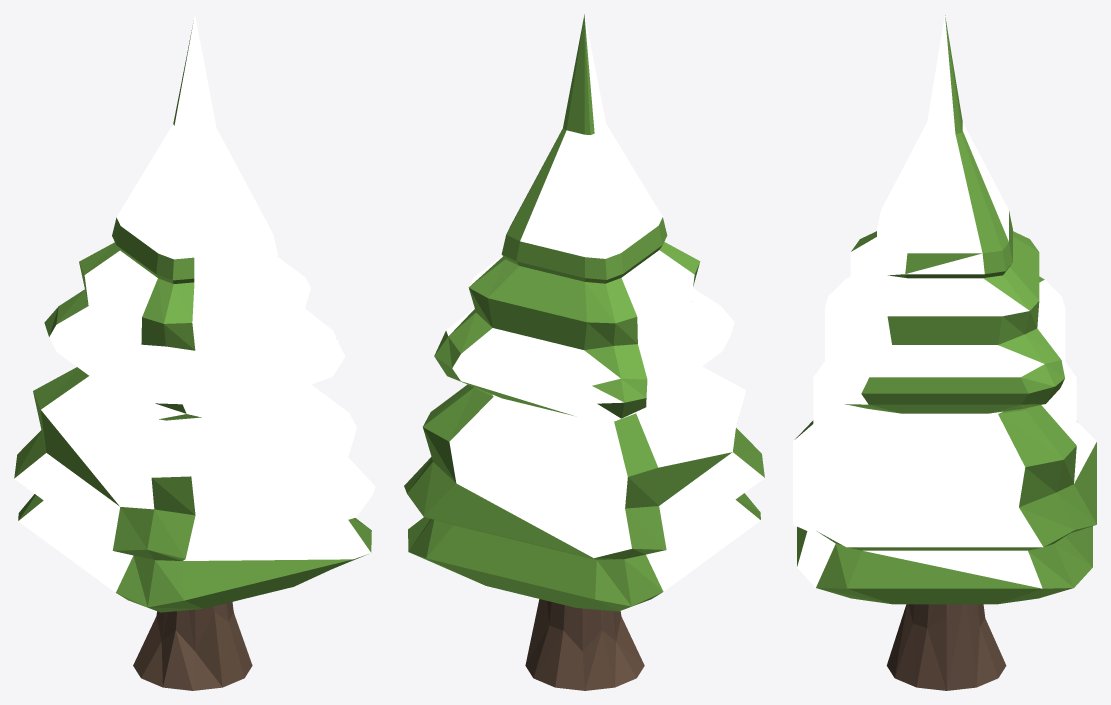
The model's file is tree_pine_snow_2.glb.
3 renders of one model, left to right at view 1: azimuth 30°, elevation 25°; view 2: azimuth 150°, elevation 25°; view 3: azimuth 270°, elevation 25°, orthographic.
Parts seen in each view (by area): view 1: tree_0035.002; view 2: tree_0035.002; view 3: tree_0035.002.
Part boxes in pixels (x1,y1,x2,y2): tree_0035.002: [14, 15, 375, 690]; tree_0035.002: [404, 14, 764, 690]; tree_0035.002: [793, 15, 1096, 690].
Size of the model in its own units: 1.82 by 4.32 by 1.82.
